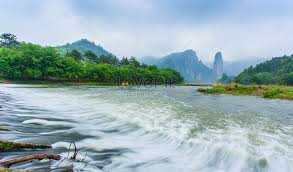lake: (4, 83, 289, 171)
mountain: (5, 39, 293, 85)
sky: (2, 2, 293, 48)
